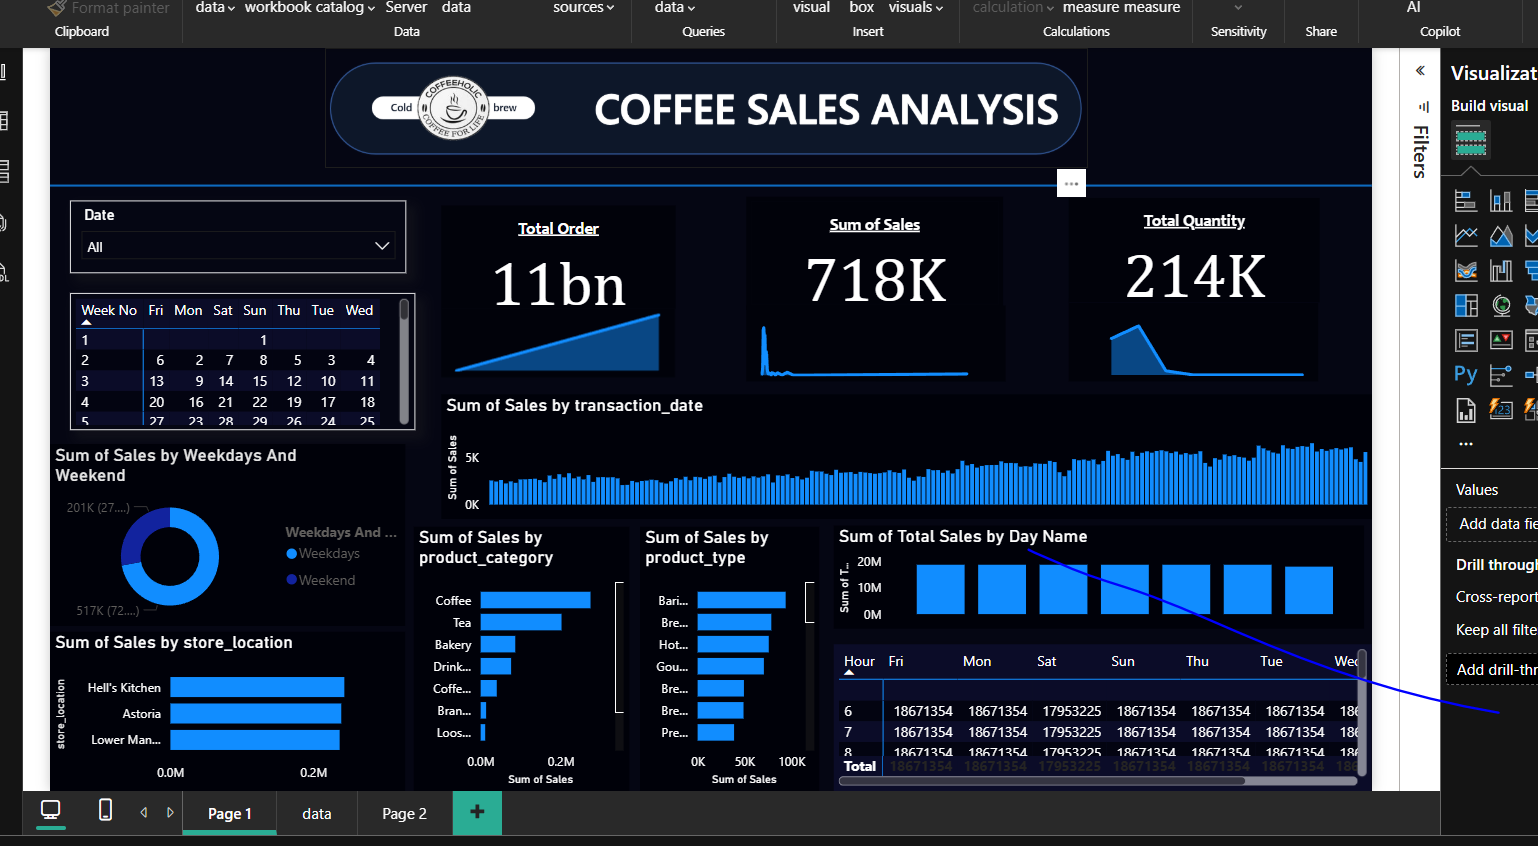

What the dashboard file says about the page in this screenshot:
{"tool":"powerbi","page":{"name":"Page 1","canvas":[1280,720],"ordinal":0},"visuals":[{"type":"pivotTable","fields":{"Columns":["Date Table.Day Name"],"Rows":["Transactions.Hour"],"Values":["Sum(Date Table.Total Sales)"]},"box":[758.9,577.9,521.1,142.1],"z":0},{"type":"pivotTable","fields":{"Columns":["Date Table.Day Name"],"Values":["Sum(Date Table.Day Num)"],"Rows":["Date Table.Week No"]},"box":[19.4,237.3,334.1,133.2],"z":1000},{"type":"slicer","fields":{"Values":["Date Table.Date"]},"box":[19.4,147.7,325.6,70.2],"z":2000},{"type":"areaChart","fields":{"Y":["Sum(Transactions.Sales)"],"Category":["Transactions.Sales"]},"box":[674.2,248.5,250.9,73.8],"z":2500,"group":"g2"},{"type":"cardVisual","fields":{"Data":["Sum(Transactions.Sales)"]},"box":[673.8,143.5,249.2,109.3],"z":3000,"group":"g2"},{"type":"group","id":"g1","title":"Group 1","box":[373.7,147.2,237.5,171.2],"z":3000},{"type":"areaChart","fields":{"Category":["Transactions.transaction_id"],"Y":["Sum(Transactions.transaction_id)","select"]},"box":[378,244.3,226.6,74.2],"z":3500,"group":"g5"},{"type":"group","id":"g2","title":"Group 2","box":[673.8,143.5,251.2,178.8],"z":4000},{"type":"cardVisual","fields":{"Data":["Sum(Transactions.transaction_id)"]},"box":[373.7,147.2,237.5,110],"z":4000,"group":"g5"},{"type":"areaChart","fields":{"Category":["Transactions.transaction_qty"],"Y":["Sum(Transactions.transaction_qty)"]},"box":[987.3,242.2,241.4,80.7],"z":4500,"group":"g4"},{"type":"group","id":"g3","title":"Group 3","box":[379.2,140.4,902.1,315.4],"z":5000},{"type":"cardVisual","fields":{"Data":["Sum(Transactions.transaction_qty)"]},"box":[982.5,140.4,253.8,111.8],"z":5000,"group":"g4"},{"type":"shape","box":[0,127.3,1280,12.3],"z":6000},{"type":"clusteredBarChart","fields":{"Category":["Transactions.store_location"],"Y":["Sum(Transactions.Sales)"]},"box":[0,565,343.8,155],"z":7000},{"type":"clusteredColumnChart","fields":{"Y":["Sum(Transactions.Sales)"],"Category":["Transactions.transaction_date"]},"box":[379.2,334.7,902.1,121.1],"z":7003,"group":"g3"},{"type":"donutChart","fields":{"Category":["Date Table.Weekdays And Weekend"],"Y":["Sum(Transactions.Sales)"]},"box":[0,383.8,343.8,176.2],"z":8000},{"type":"group","id":"g4","title":"Group 4","box":[982.5,140.4,253.8,182.5],"z":8004,"group":"g3"},{"type":"group","id":"g5","title":"Group 5","box":[373.7,147.2,237.5,171.2],"z":8004,"group":"g1"},{"type":"clusteredBarChart","fields":{"Category":["Transactions.product_category"],"Y":["Sum(Transactions.Sales)"]},"box":[352.6,464.2,208.4,255.8],"z":9000},{"type":"clusteredBarChart","fields":{"Category":["Transactions.product_type"],"Y":["Sum(Transactions.Sales)"]},"box":[571.6,464.2,173.7,255.8],"z":10000},{"type":"clusteredColumnChart","fields":{"Category":["Date Table.Day Name"],"Y":["Sum(Date Table.Total Sales)"]},"box":[758.9,462.1,513.7,100],"z":11000},{"type":"image","box":[266.3,0,737.9,115.8],"z":12000}]}

Visuals, with their boxes on the page's 1280x720 design canvas (x1, y1, x2, y2). These are canvas units, not pixel positions in the 1538x846 screenshot, which may show the page scaled, cropped or inside an application window:
pivotTable - Date Table.Day Name x Transactions.Hour: detection(759, 578, 1280, 720)
pivotTable - Date Table.Day Name x Sum(Date Table.Day Num): detection(19, 237, 354, 370)
slicer - Date Table.Date: detection(19, 148, 345, 218)
areaChart - Sum(Transactions.Sales) x Transactions.Sales: detection(674, 248, 925, 322)
cardVisual - Sum(Transactions.Sales): detection(674, 144, 923, 253)
"Group 1" group: detection(374, 147, 611, 318)
areaChart - Transactions.transaction_id x Sum(Transactions.transaction_id): detection(378, 244, 605, 318)
"Group 2" group: detection(674, 144, 925, 322)
cardVisual - Sum(Transactions.transaction_id): detection(374, 147, 611, 257)
areaChart - Transactions.transaction_qty x Sum(Transactions.transaction_qty): detection(987, 242, 1229, 323)
"Group 3" group: detection(379, 140, 1281, 456)
cardVisual - Sum(Transactions.transaction_qty): detection(982, 140, 1236, 252)
shape: detection(0, 127, 1280, 140)
clusteredBarChart - Transactions.store_location x Sum(Transactions.Sales): detection(0, 565, 344, 720)
clusteredColumnChart - Sum(Transactions.Sales) x Transactions.transaction_date: detection(379, 335, 1281, 456)
donutChart - Date Table.Weekdays And Weekend x Sum(Transactions.Sales): detection(0, 384, 344, 560)
"Group 4" group: detection(982, 140, 1236, 323)
"Group 5" group: detection(374, 147, 611, 318)
clusteredBarChart - Transactions.product_category x Sum(Transactions.Sales): detection(353, 464, 561, 720)
clusteredBarChart - Transactions.product_type x Sum(Transactions.Sales): detection(572, 464, 745, 720)
clusteredColumnChart - Date Table.Day Name x Sum(Date Table.Total Sales): detection(759, 462, 1273, 562)
image: detection(266, 0, 1004, 116)
